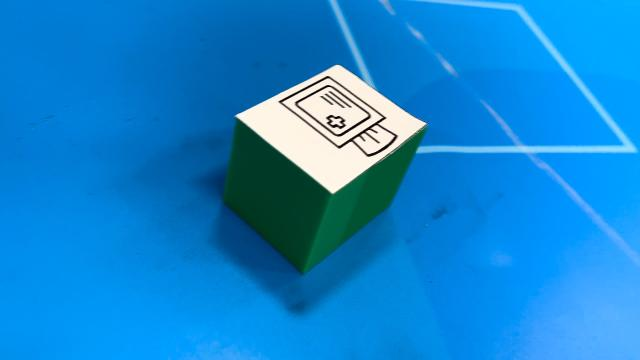napkin: (228, 65, 428, 275)
